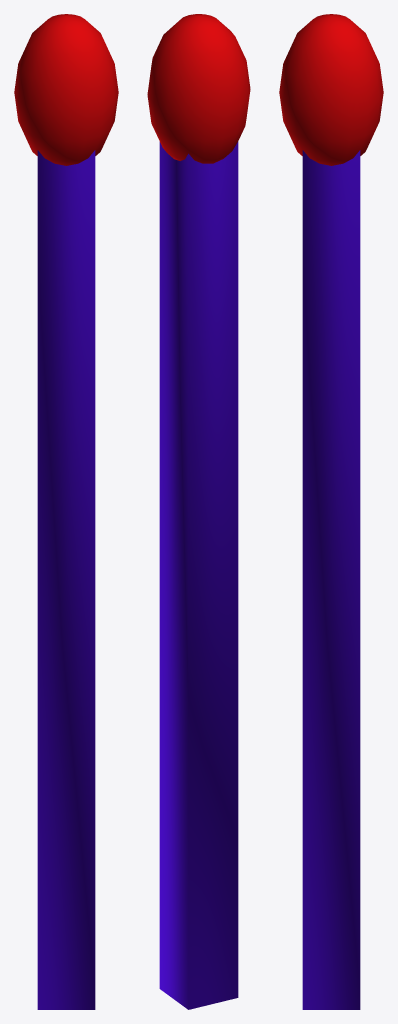
File: Match.fbx
The picture shows the model from 3 angles, left to right: view 1: azimuth 90°, elevation 25°; view 2: azimuth 210°, elevation 25°; view 3: azimuth 270°, elevation 25°; orthographic projection.
Visible parts, largest first — view 1: Cube; view 2: Cube; view 3: Cube.
Boxes of the visible parts, bbox=[...] form: Cube: bbox=[14, 14, 118, 1009]; Cube: bbox=[147, 14, 250, 1009]; Cube: bbox=[279, 14, 383, 1009].
Size of the model in its own units: 0.5487 by 5.69 by 0.5487.
